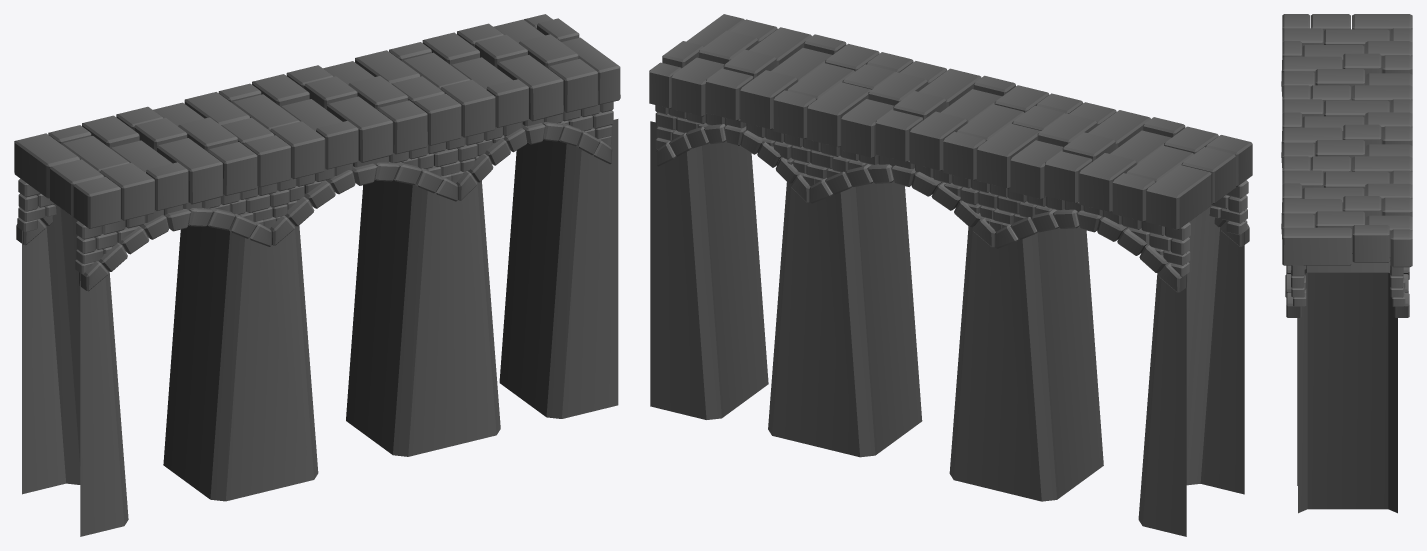
File: Corridor.fbx
3 views of the same model, side by side, from view 1: azimuth 30°, elevation 25°; view 2: azimuth 150°, elevation 25°; view 3: azimuth 270°, elevation 25° (orthographic). The views are drawn at different scales.
Parts seen in each view (by area): view 1: pCube134; view 2: pCube134; view 3: pCube134.
Boxes of the visible parts, bbox=[...] form: pCube134: bbox=[14, 14, 620, 536]; pCube134: bbox=[649, 14, 1252, 536]; pCube134: bbox=[1281, 14, 1412, 513].
Bounding box in the file's own units: 16.17 × 10.08 × 3.98.
